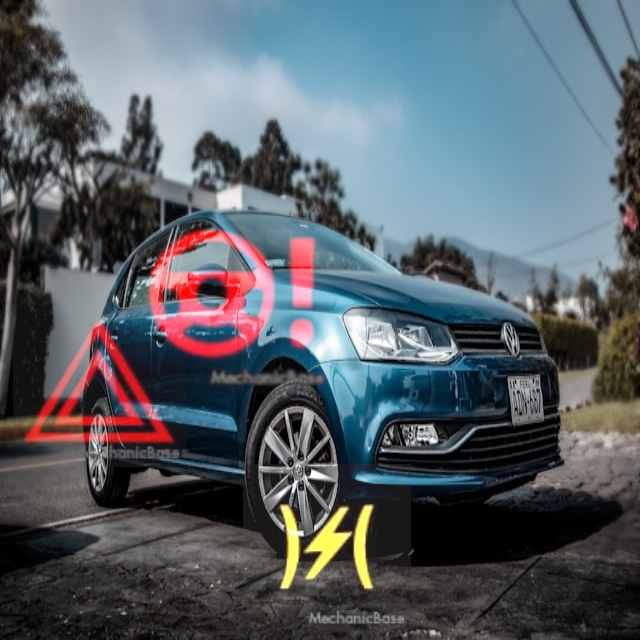symbol: (133, 195, 332, 394), (13, 294, 186, 467), (243, 464, 411, 632)
